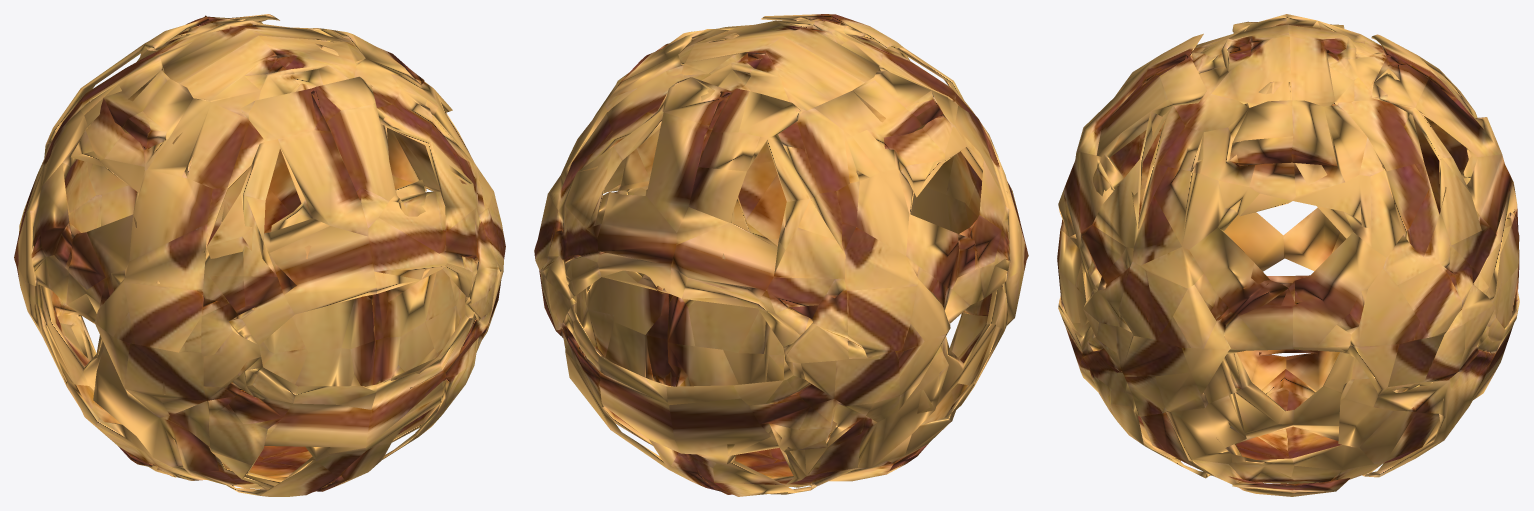
File: ball.glb
The picture shows the model from 3 angles, left to right: view 1: azimuth 30°, elevation 25°; view 2: azimuth 150°, elevation 25°; view 3: azimuth 270°, elevation 25°; orthographic projection.
Visible parts, largest first — view 1: Mesh; view 2: Mesh; view 3: Mesh.
Part boxes in pixels (x1=…): Mesh: x1=14, y1=14, x2=505, y2=496; Mesh: x1=534, y1=14, x2=1028, y2=496; Mesh: x1=1057, y1=14, x2=1519, y2=496.
Size of the model in its own units: 1.81 by 1.9 by 1.82.
Materials: 1 (1 with a texture image).
